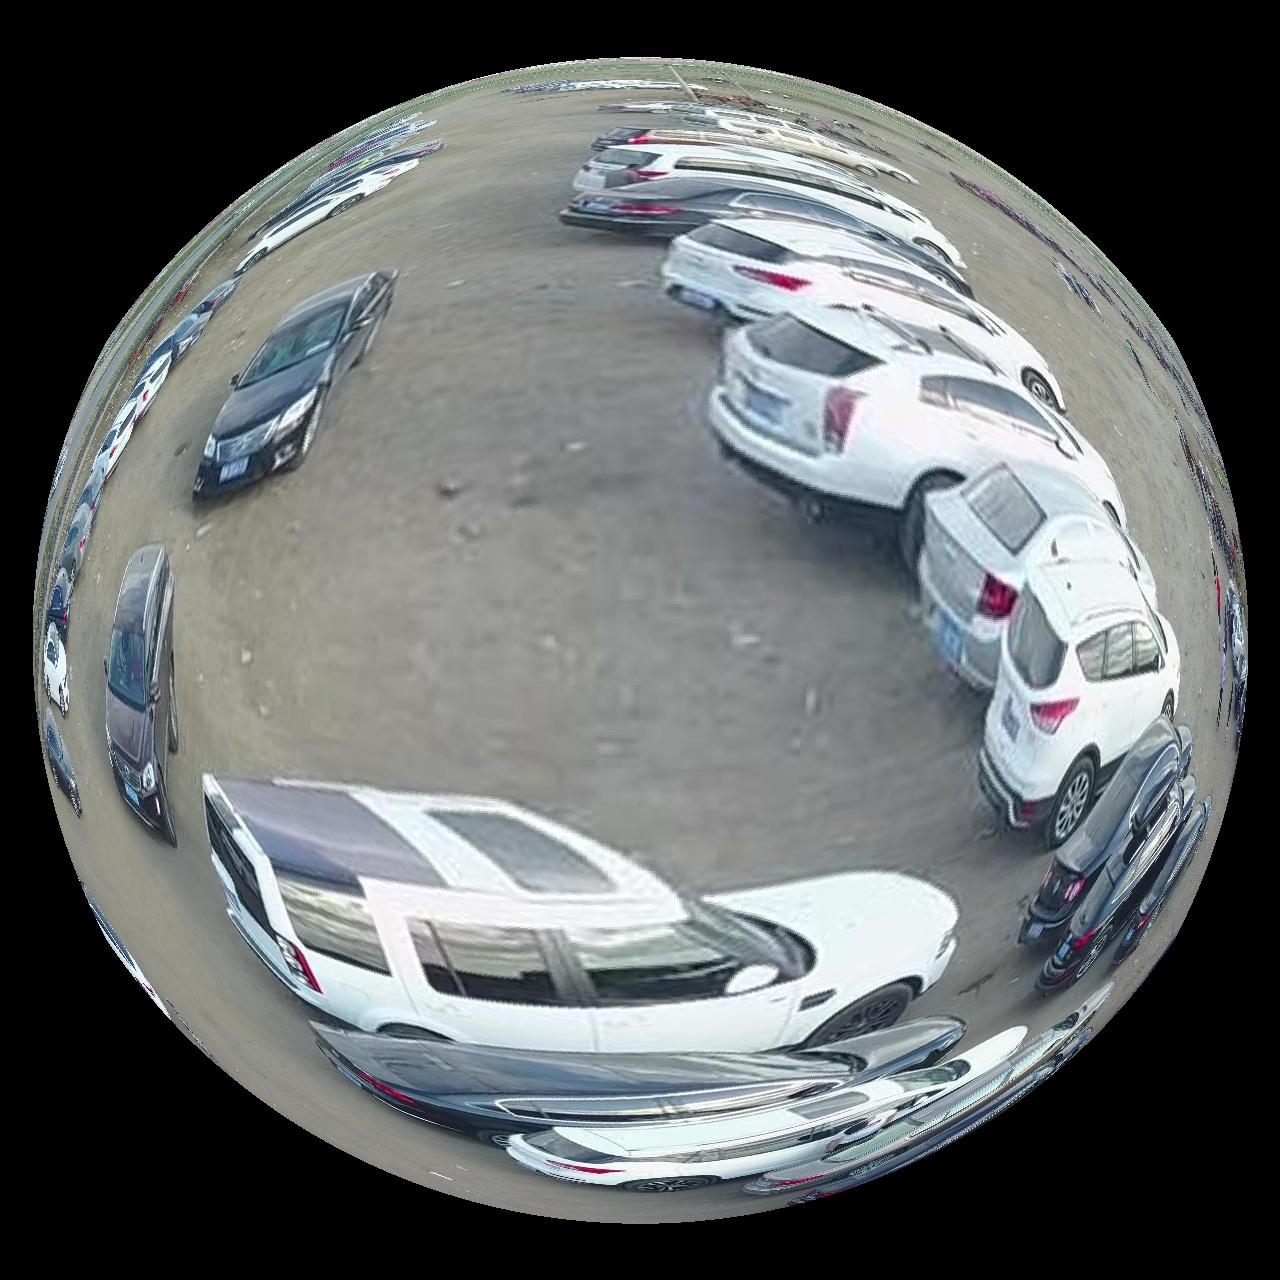cars: (201, 775, 958, 1054), (710, 305, 1126, 526), (39, 274, 236, 714), (503, 1029, 1028, 1192), (313, 1019, 967, 1142), (662, 218, 1065, 410), (982, 564, 1182, 848), (919, 462, 1160, 690), (572, 140, 964, 264), (192, 271, 394, 498), (1022, 719, 1192, 944), (559, 174, 935, 258), (1054, 778, 1198, 974), (104, 544, 176, 846), (1115, 797, 1213, 966), (41, 706, 80, 816)
